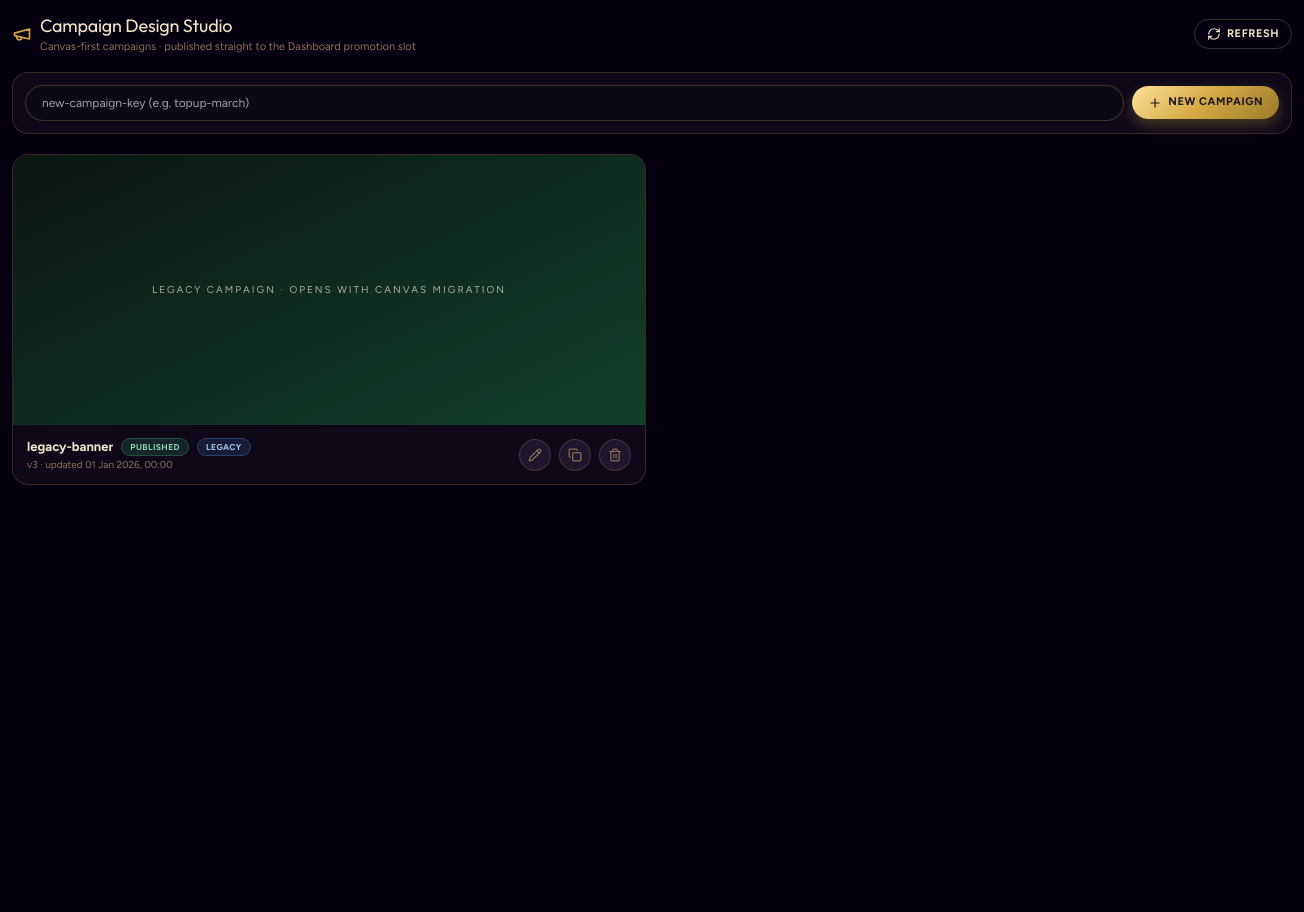
legacy form-era configs open with a non-destructive canvas conversion
Click the button "Legacy campaign · opens with canvas migration".
click(329, 290)  # box [13,154,645,425]
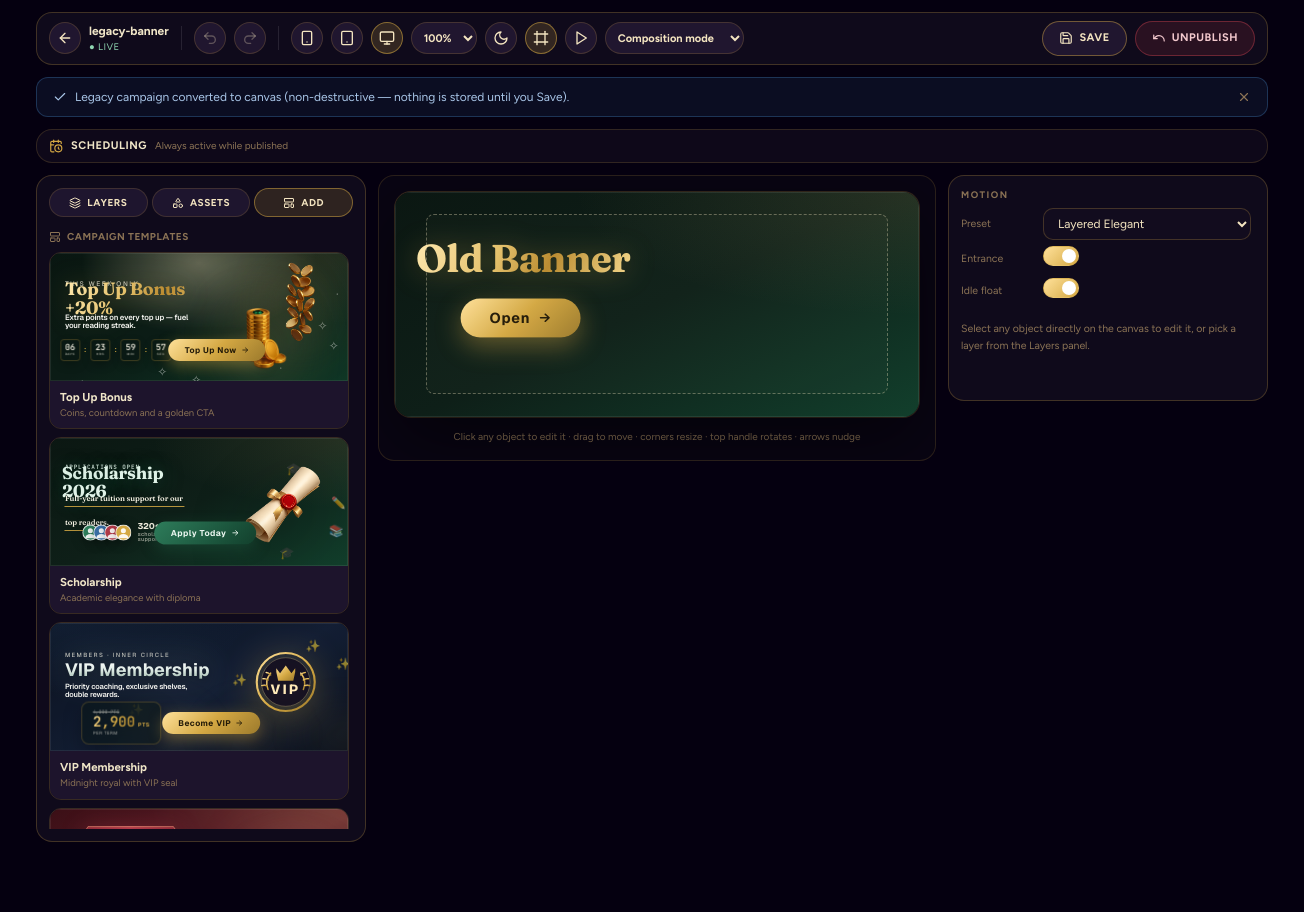
Expected: the element with test id "campaign-editor" is shown
Expected: the element with test id "canvas-stage" shows "Old Banner", [416,235,630,283]
Expected: the element with test id "campaign-editor-notice" shows "converted to canvas", [75,90,569,104]
